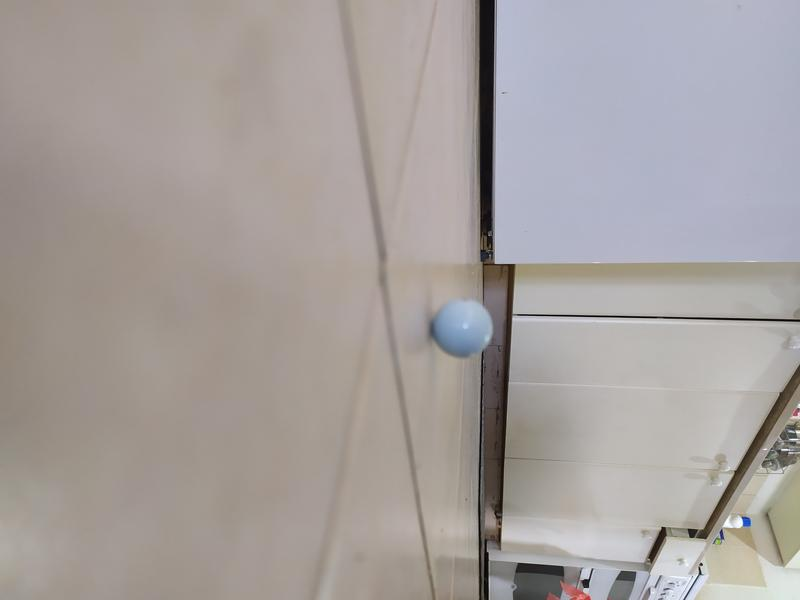Warning: (428, 295, 497, 360)
